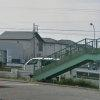bicycles: (34, 42, 86, 82)
